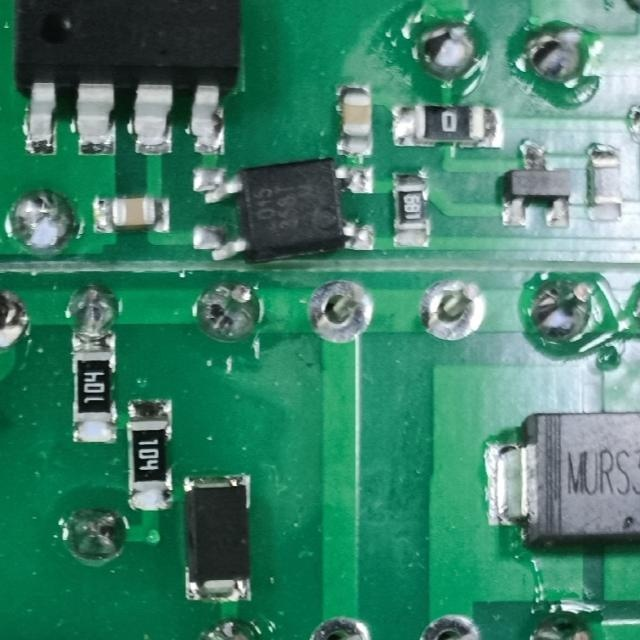chip-capacitor: (89, 195, 171, 236), (335, 81, 374, 158)
chip-resistor: (127, 397, 175, 514), (72, 331, 119, 444), (390, 104, 506, 149), (393, 166, 431, 250), (585, 138, 622, 222)
diode: (483, 406, 640, 545), (182, 471, 253, 603)
ic: (8, 0, 252, 160), (189, 161, 380, 263)
transistor: (500, 141, 572, 228)
